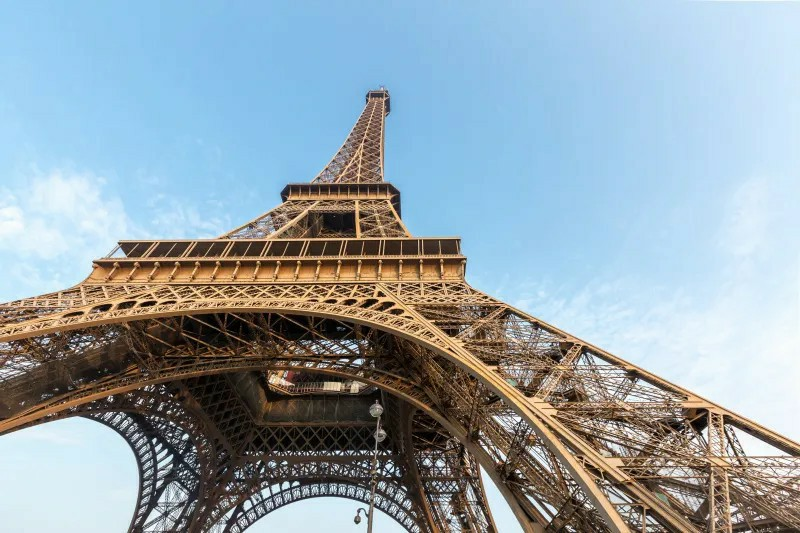Eiffel: (1, 84, 800, 533)
